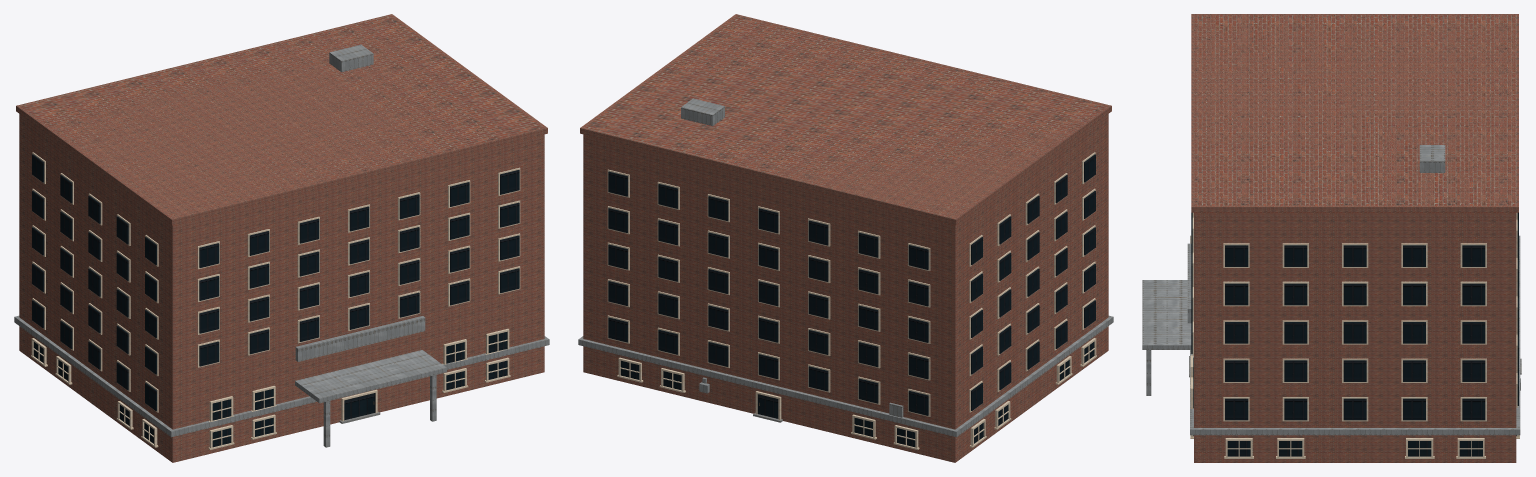
The model's file is cass-medical-center_lod0.gltf.
The picture shows the model from 3 angles, left to right: view 1: azimuth 30°, elevation 25°; view 2: azimuth 150°, elevation 25°; view 3: azimuth 270°, elevation 25°; orthographic projection. The views are drawn at different scales.
Parts seen in each view (by area): view 1: cass-medical-center_main, cass-medical-center__parapet, cass-medical-center_fen_07-glass-curtain-blue_1_t, cass-medical-center_fen_04-limestone_0, cass-medical-center__dropoff_canopy, cass-medical-center__trim_band, cass-medical-center__sign_band, cass-medical-center__hvac; view 2: cass-medical-center_main, cass-medical-center_fen_07-glass-curtain-blue_1_t, cass-medical-center__parapet, cass-medical-center_fen_04-limestone_0, cass-medical-center__trim_band, cass-medical-center__hvac; view 3: cass-medical-center_main, cass-medical-center__parapet, cass-medical-center_fen_07-glass-curtain-blue_1_t, cass-medical-center_fen_04-limestone_0, cass-medical-center__dropoff_canopy, cass-medical-center__trim_band, cass-medical-center__hvac, cass-medical-center__sign_band.
Boxes of the visible parts, left/top/right/bottom form: cass-medical-center_main: left=19, top=15, right=544, bottom=462; cass-medical-center__parapet: left=16, top=14, right=547, bottom=225; cass-medical-center_fen_07-glass-curtain-blue_1_t: left=32, top=154, right=519, bottom=447; cass-medical-center_fen_04-limestone_0: left=31, top=152, right=520, bottom=449; cass-medical-center__dropoff_canopy: left=295, top=350, right=446, bottom=403; cass-medical-center__trim_band: left=14, top=315, right=549, bottom=437; cass-medical-center__sign_band: left=295, top=316, right=425, bottom=361; cass-medical-center__hvac: left=329, top=44, right=373, bottom=72; cass-medical-center_main: left=583, top=15, right=1108, bottom=462; cass-medical-center_fen_07-glass-curtain-blue_1_t: left=608, top=154, right=1095, bottom=447; cass-medical-center__parapet: left=580, top=14, right=1111, bottom=225; cass-medical-center_fen_04-limestone_0: left=607, top=152, right=1096, bottom=449; cass-medical-center__trim_band: left=578, top=315, right=1113, bottom=437; cass-medical-center__hvac: left=681, top=98, right=724, bottom=126; cass-medical-center_main: left=1194, top=15, right=1516, bottom=462; cass-medical-center__parapet: left=1191, top=14, right=1518, bottom=212; cass-medical-center_fen_07-glass-curtain-blue_1_t: left=1191, top=212, right=1518, bottom=456; cass-medical-center_fen_04-limestone_0: left=1190, top=212, right=1519, bottom=458; cass-medical-center__dropoff_canopy: left=1142, top=280, right=1191, bottom=349; cass-medical-center__trim_band: left=1190, top=235, right=1520, bottom=435; cass-medical-center__hvac: left=1419, top=145, right=1445, bottom=172; cass-medical-center__sign_band: left=1187, top=243, right=1191, bottom=323.
Size of the model in its own units: 35.6 by 23 by 29.4.
